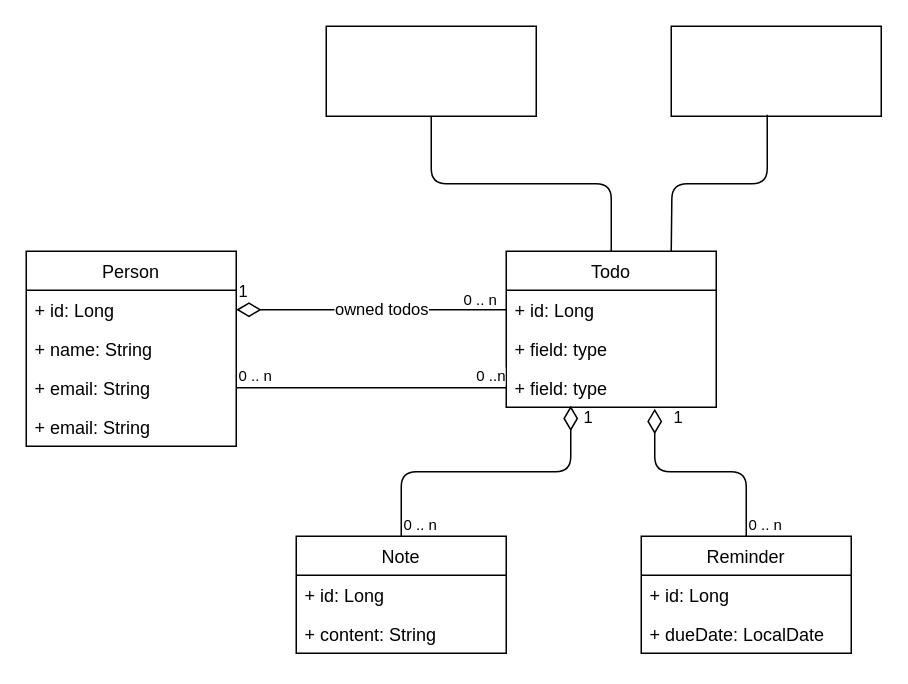
The diagram is 908 pixels wide and 684 high, and some of its shapes have lost their labels. Each missing label, with the centre of its shape:
"Priority" belongs at [430,70].
"Status" belongs at [775,70].
